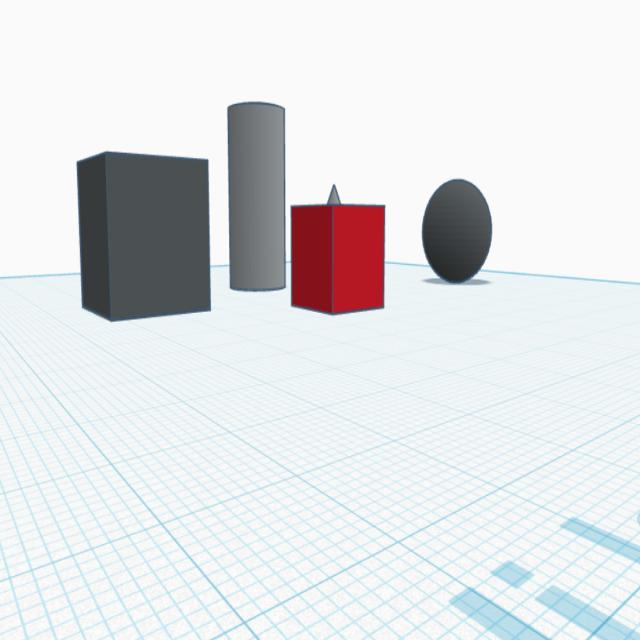cube: (74, 147, 214, 326), (288, 201, 388, 318)
sphere: (420, 174, 494, 286)
